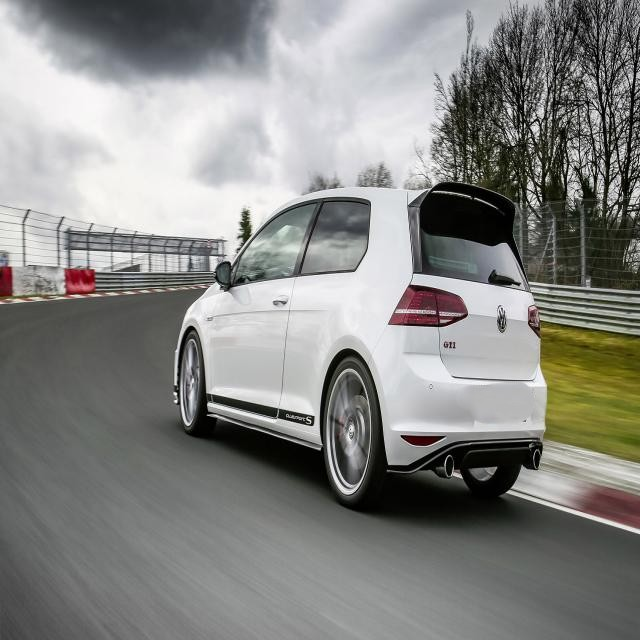car: (176, 172, 546, 508)
